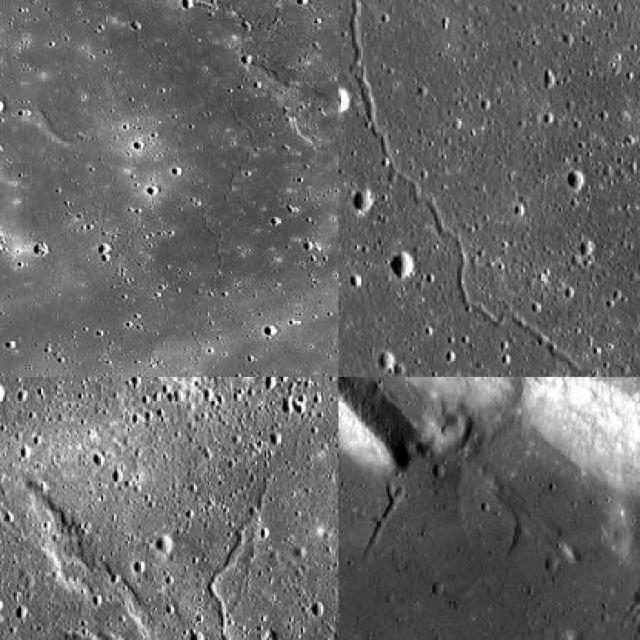rille: (344, 0, 638, 375), (78, 4, 260, 376), (32, 486, 274, 639), (206, 422, 311, 638), (516, 574, 638, 638), (368, 483, 406, 557)
